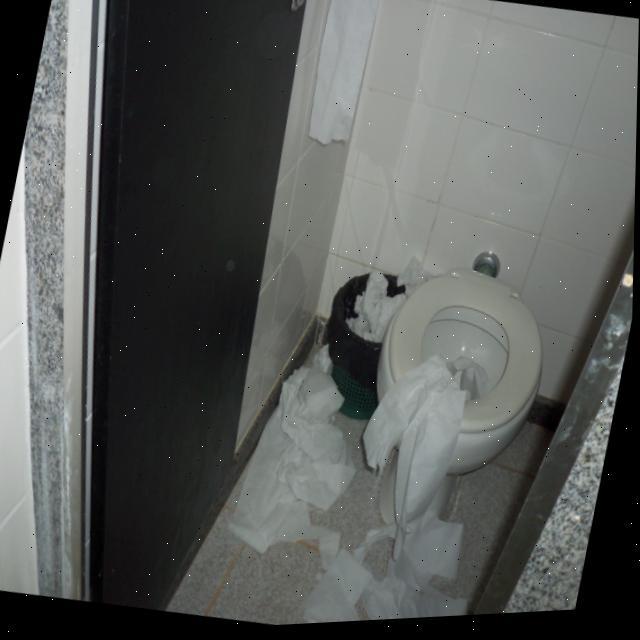garbage: (219, 340, 376, 579), (352, 343, 483, 519), (326, 498, 485, 622)
overflow_bin: (315, 230, 437, 364)
